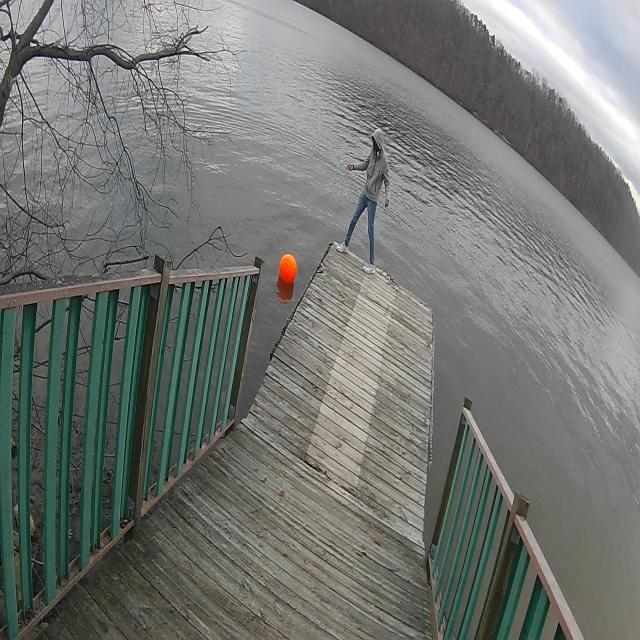Buoy: (279, 249, 298, 290)
